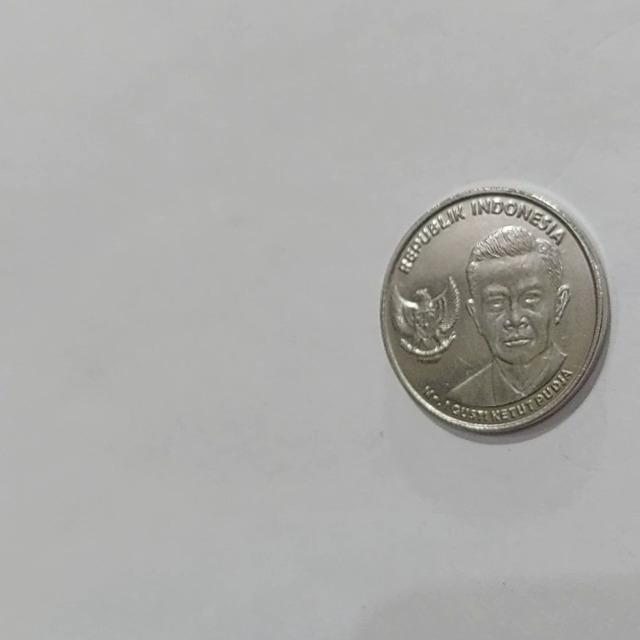Rp100: (380, 183, 611, 437), (439, 221, 575, 410)
